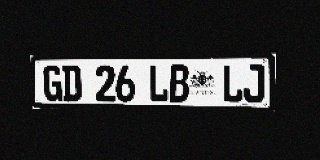2: (96, 65, 115, 102)
6: (115, 65, 135, 102)
B: (169, 65, 189, 102)
D: (62, 65, 81, 101)
G: (43, 65, 62, 101)
J: (243, 64, 265, 103)
L: (222, 64, 243, 103), (149, 65, 168, 102)
